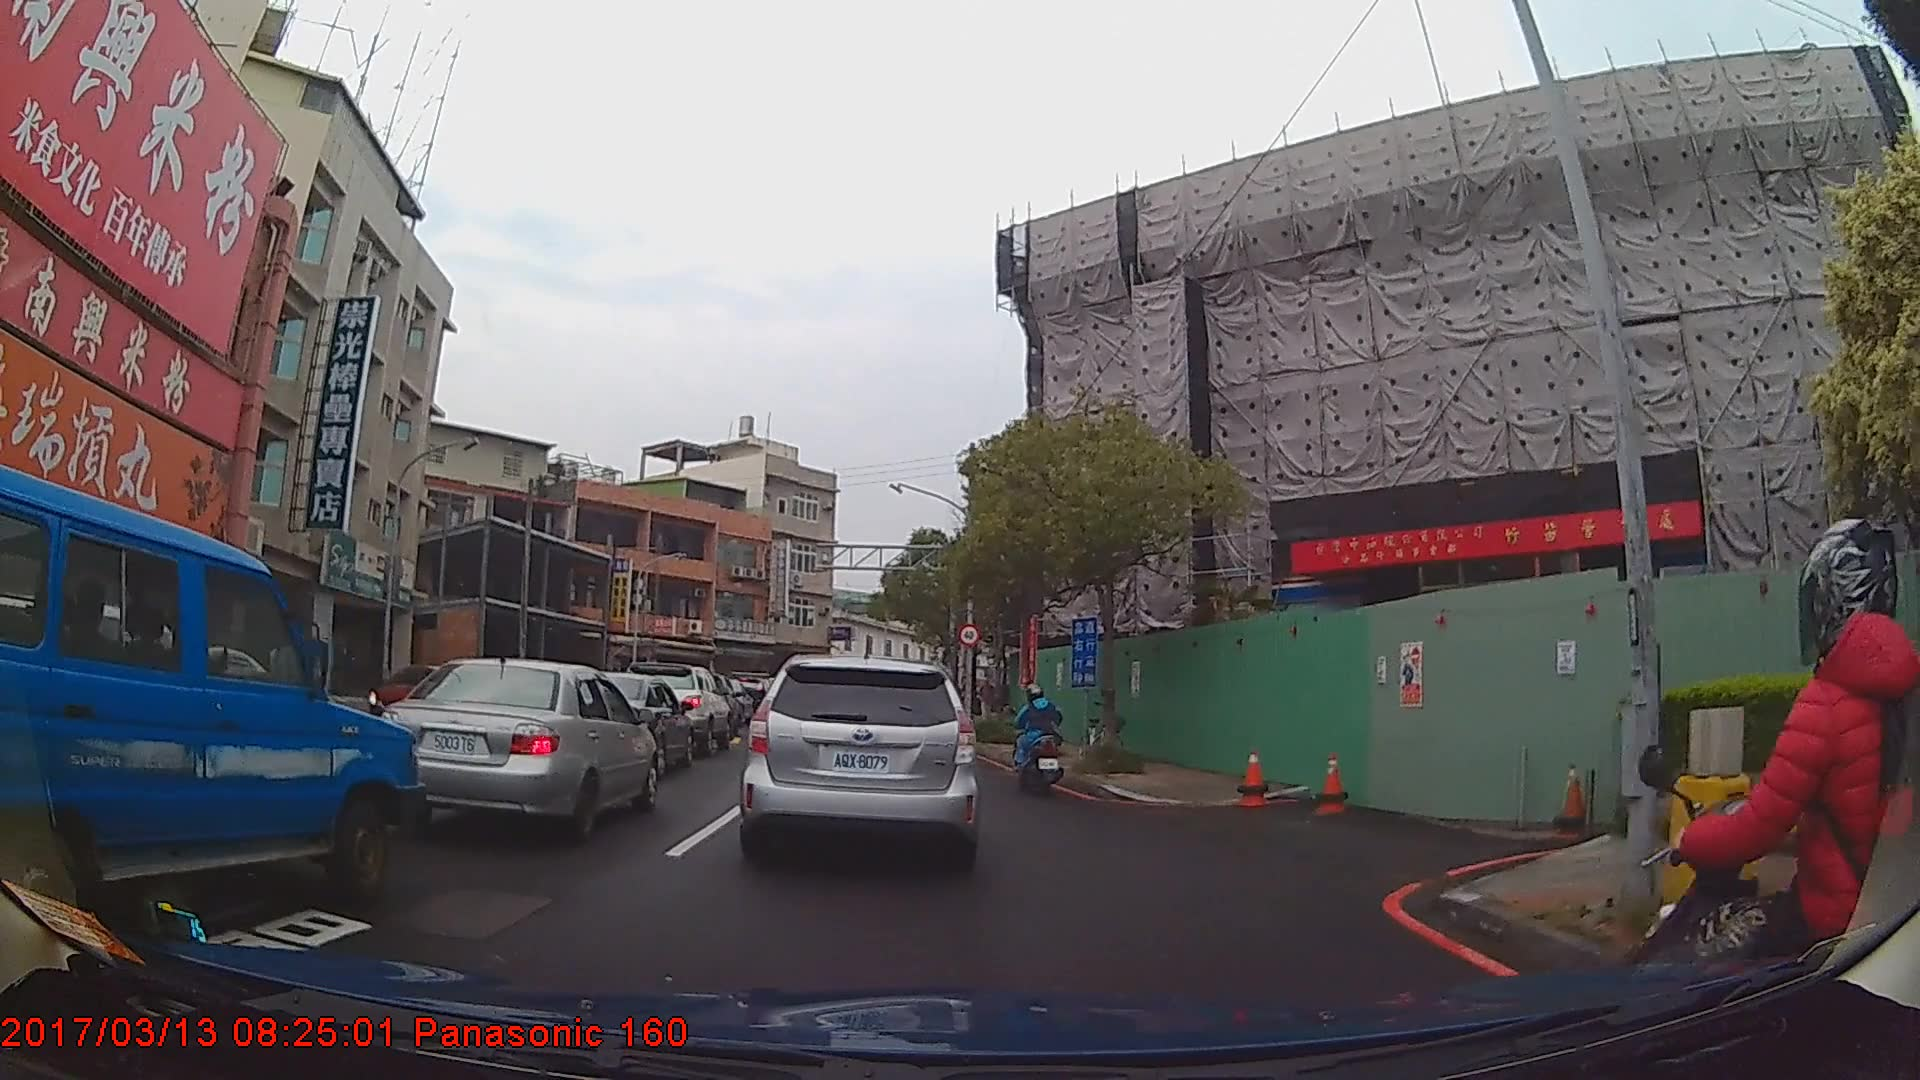rider: (1620, 503, 1920, 1080), (1013, 686, 1067, 797)
vehicle: (0, 462, 420, 946), (374, 657, 662, 844), (739, 651, 982, 862), (549, 668, 694, 772), (620, 658, 730, 755)
